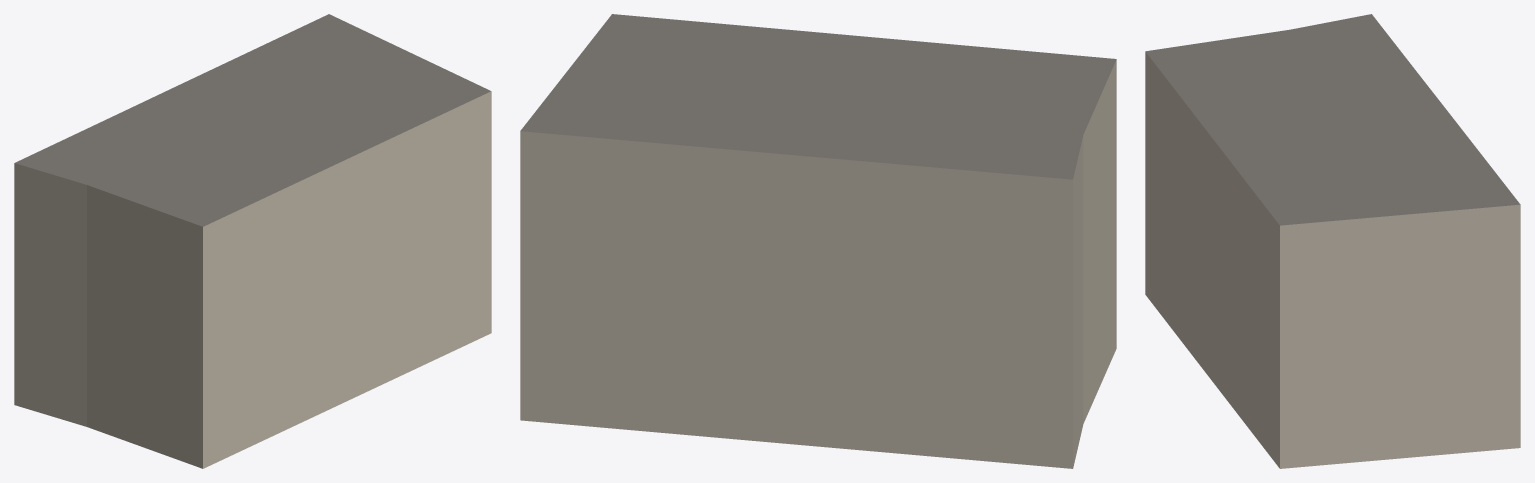
The picture shows the model from 3 angles, left to right: view 1: azimuth 30°, elevation 25°; view 2: azimuth 150°, elevation 25°; view 3: azimuth 270°, elevation 25°; orthographic projection. The views are drawn at different scales.
Visible parts, largest first — view 1: HP-w389702059; view 2: HP-w389702059; view 3: HP-w389702059.
Boxes of the visible parts, x1,y1,x2,y2 form: HP-w389702059: (14,14,491,468); HP-w389702059: (520,14,1116,468); HP-w389702059: (1145,14,1520,468).
Bounding box in the file's own units: 33.57 × 18 × 25.16.
